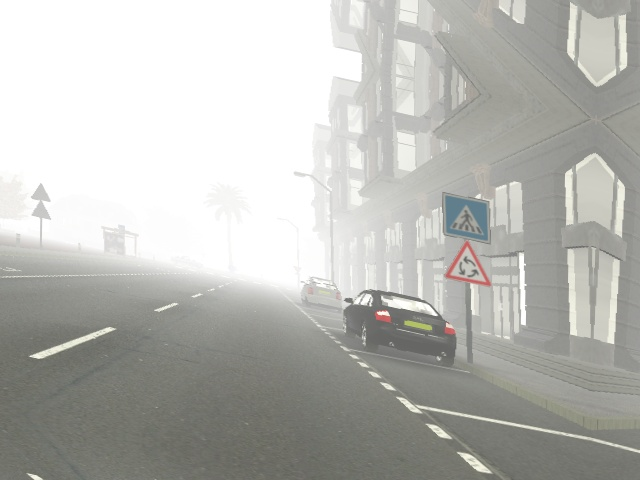Crossroad: (445, 240, 497, 296)
Pedestrian crossing: (436, 190, 496, 247)
